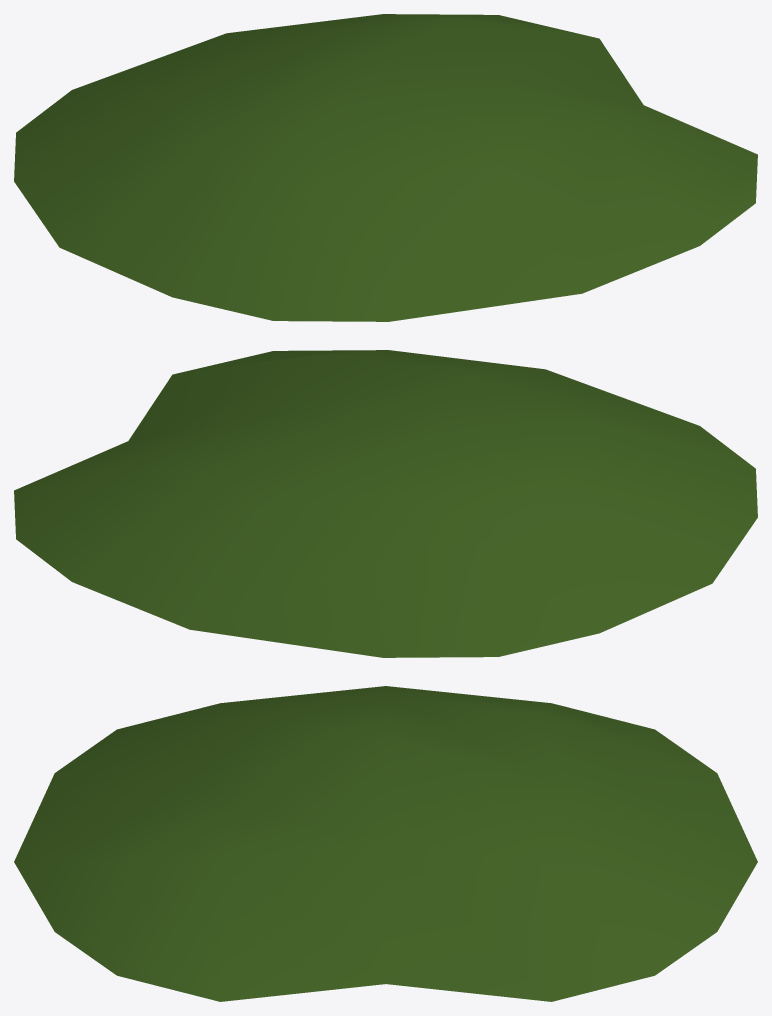
The model's file is Hill.fbx.
3 views of the same model, one above another, from view 1: azimuth 30°, elevation 25°; view 2: azimuth 150°, elevation 25°; view 3: azimuth 270°, elevation 25° (orthographic). The views are drawn at different scales.
Parts seen in each view (by area): view 1: pPlane6; view 2: pPlane6; view 3: pPlane6.
Part boxes in pixels (bbox=[...]): pPlane6: bbox=[14, 14, 757, 321]; pPlane6: bbox=[14, 350, 757, 657]; pPlane6: bbox=[14, 686, 757, 1001].
Size of the model in its own units: 794 by 103 by 790.
